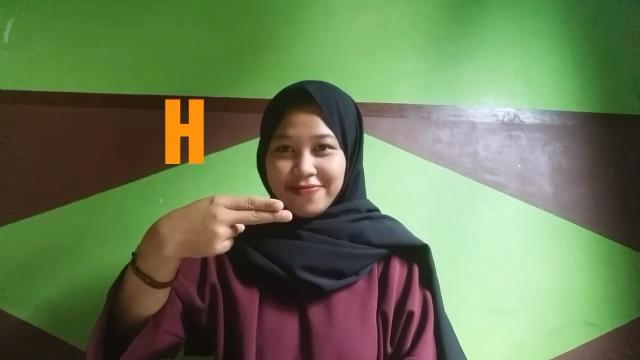H: (156, 194, 292, 258)
